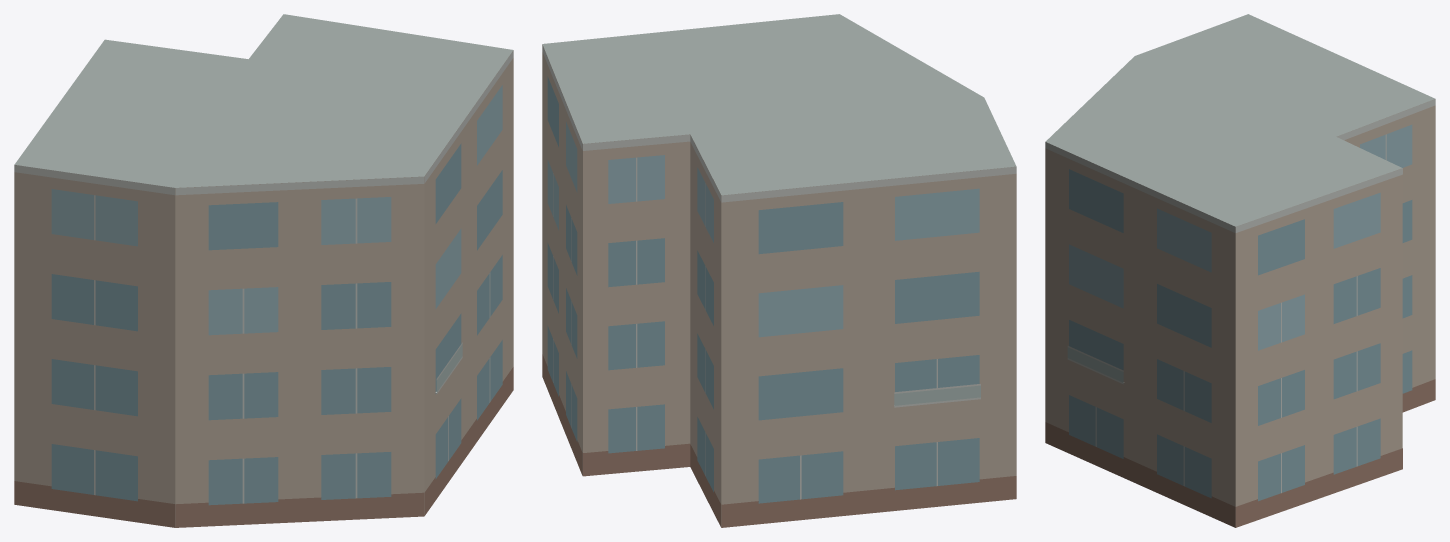
The model's file is survey-upis-32710597.glb.
3 renders of one model, left to right at view 1: azimuth 30°, elevation 25°; view 2: azimuth 150°, elevation 25°; view 3: azimuth 270°, elevation 25°, orthographic. The views are drawn at different scales.
Visible parts, largest first — view 1: survey-upis-32710597.tmp; view 2: survey-upis-32710597.tmp; view 3: survey-upis-32710597.tmp.
Part boxes in pixels (bbox=[...]): survey-upis-32710597.tmp: bbox=[14, 14, 513, 527]; survey-upis-32710597.tmp: bbox=[542, 14, 1016, 527]; survey-upis-32710597.tmp: bbox=[1045, 14, 1435, 527].
Size of the model in its own units: 17.13 by 11.3 by 13.28.
